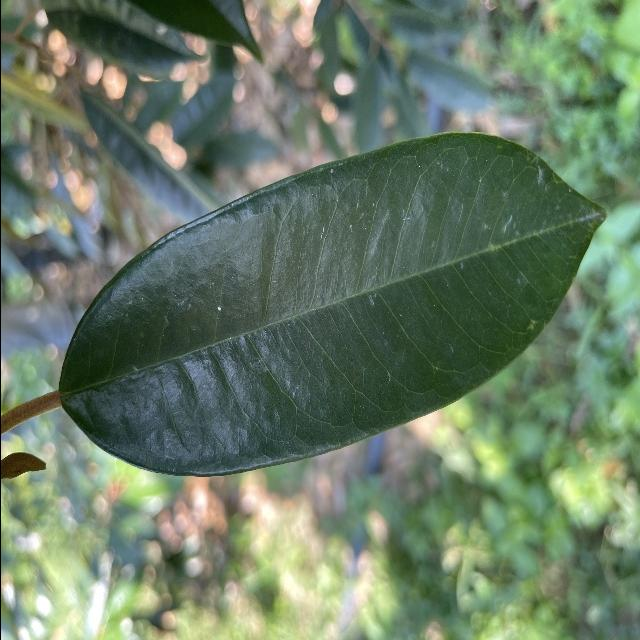No Disease: (45, 125, 611, 482)
